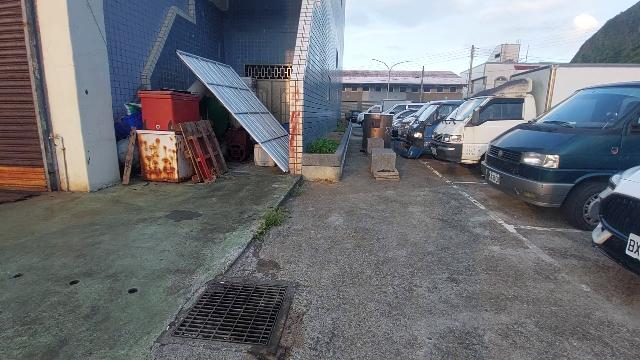pollute: (173, 119, 228, 183), (136, 131, 188, 182), (139, 90, 201, 132), (119, 127, 136, 185), (116, 101, 139, 135), (227, 126, 246, 162), (253, 144, 276, 168), (116, 136, 128, 162)
